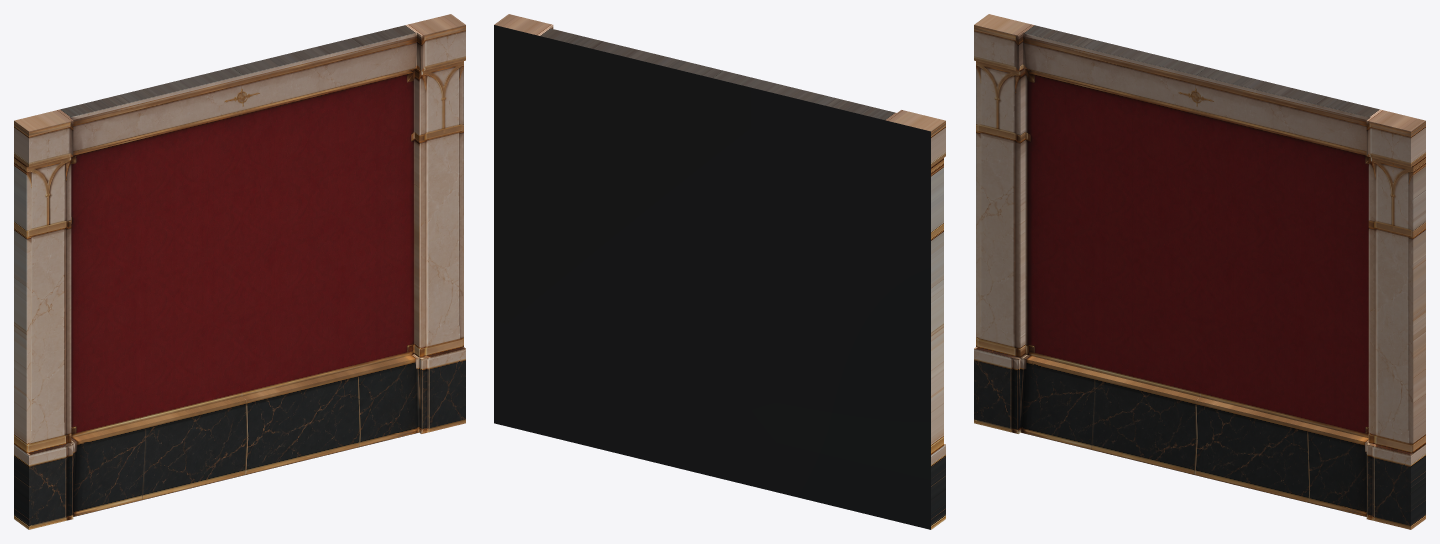
Rendered from Wall_03.glb.
The picture shows the model from 3 angles, left to right: view 1: azimuth 30°, elevation 25°; view 2: azimuth 150°, elevation 25°; view 3: azimuth 330°, elevation 25°; orthographic projection.
Parts seen in each view (by area): view 1: Wall_03; view 2: Wall_03; view 3: Wall_03.
Part boxes in pixels (bbox=[...]): Wall_03: bbox=[14, 14, 465, 529]; Wall_03: bbox=[494, 14, 945, 529]; Wall_03: bbox=[974, 14, 1425, 529].
Bounding box in the file's own units: 10.58 × 9.22 × 0.6227.
Materials: 1 (1 with a texture image).
